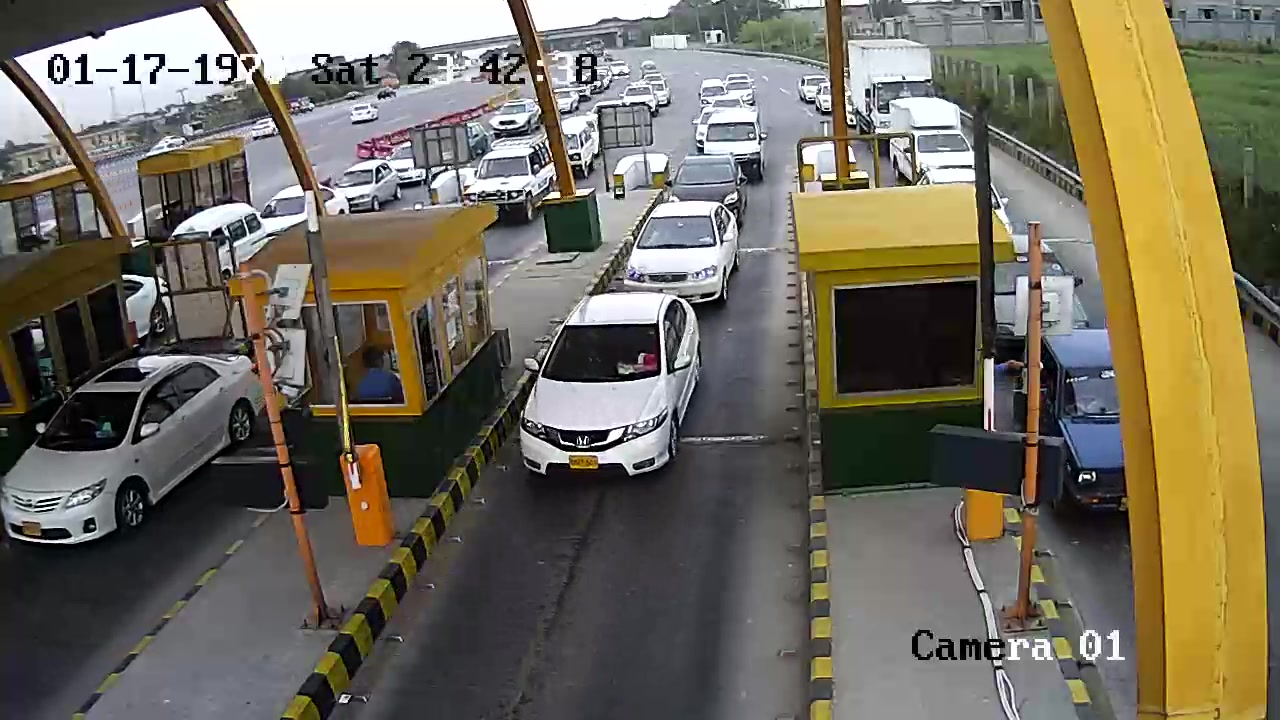F1: (516, 290, 708, 490)
